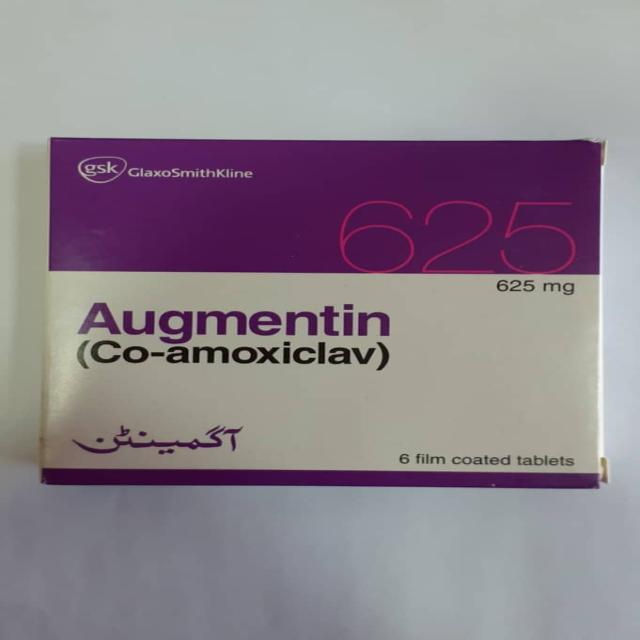drug-name: (78, 298, 394, 346)
